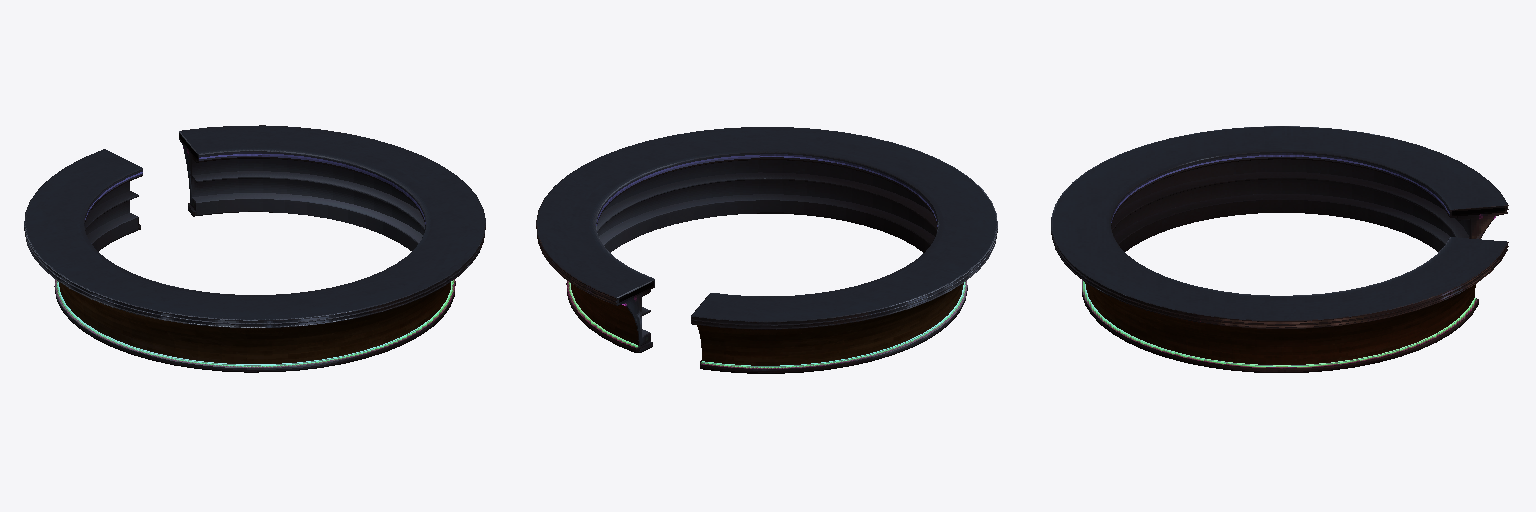
3 views of the same model, side by side, from view 1: azimuth 30°, elevation 25°; view 2: azimuth 150°, elevation 25°; view 3: azimuth 270°, elevation 25° (orthographic).
Parts seen in each view (by area): view 1: BarBaked; view 2: BarBaked; view 3: BarBaked.
Boxes of the visible parts, <box> form: BarBaked: <box>24,125,485,372</box>; BarBaked: <box>536,127,997,373</box>; BarBaked: <box>1051,126,1508,372</box>.
Size of the model in its own units: 6.46 by 1.01 by 6.39.
Materials: 1 (1 with a texture image).